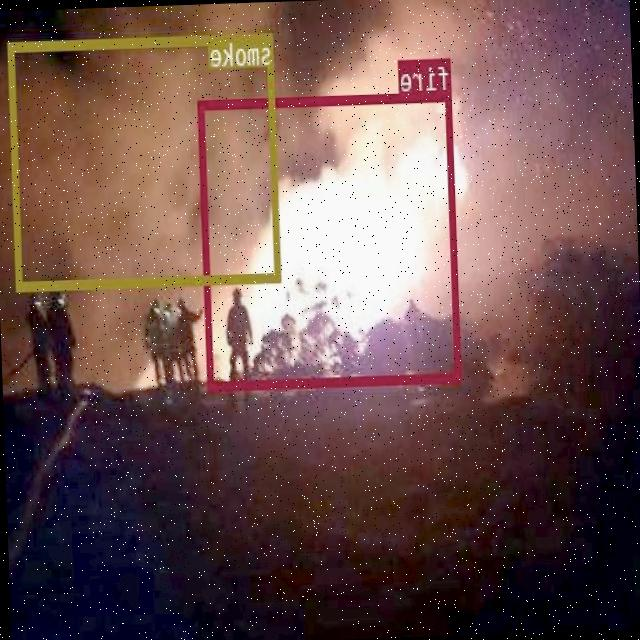fire: (198, 90, 462, 388)
smoke: (9, 31, 282, 290)
